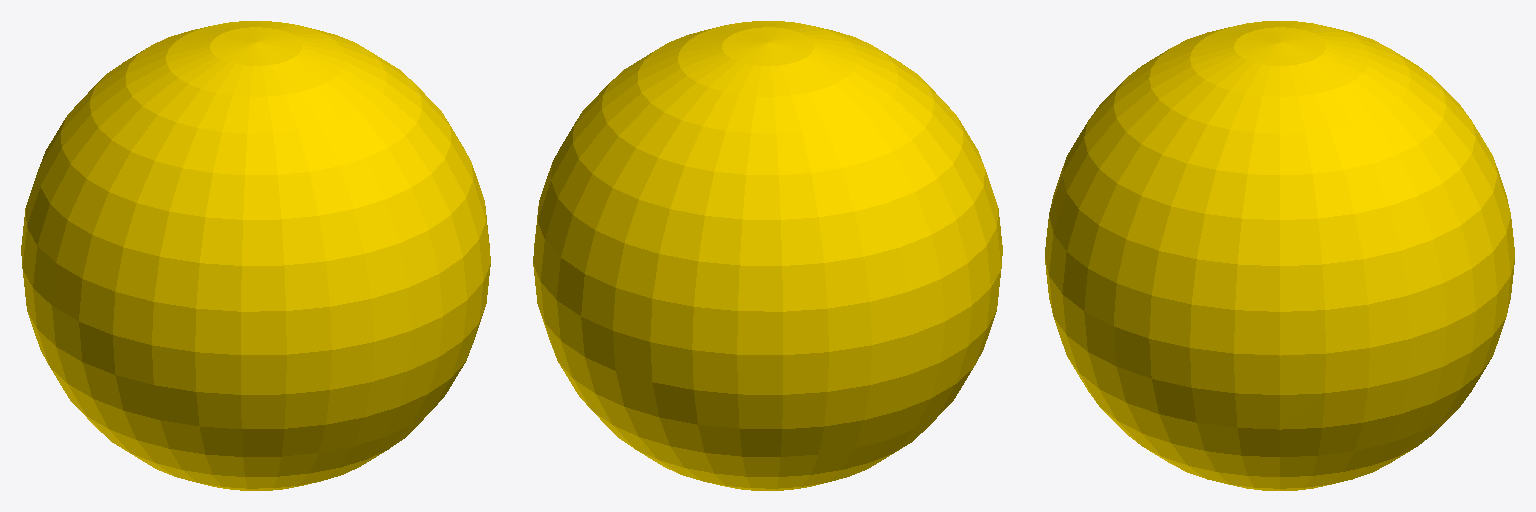
Rendered from sol.obj.
The picture shows the model from 3 angles: view 1: azimuth 30°, elevation 25°; view 2: azimuth 150°, elevation 25°; view 3: azimuth 270°, elevation 25°; orthographic projection.
Parts seen in each view (by area): view 1: Sphere; view 2: Sphere; view 3: Sphere.
Part boxes in pixels (bbox=[...]): Sphere: bbox=[21, 21, 490, 490]; Sphere: bbox=[533, 21, 1002, 490]; Sphere: bbox=[1045, 21, 1514, 490].
Size of the model in its own units: 1 by 1 by 1.